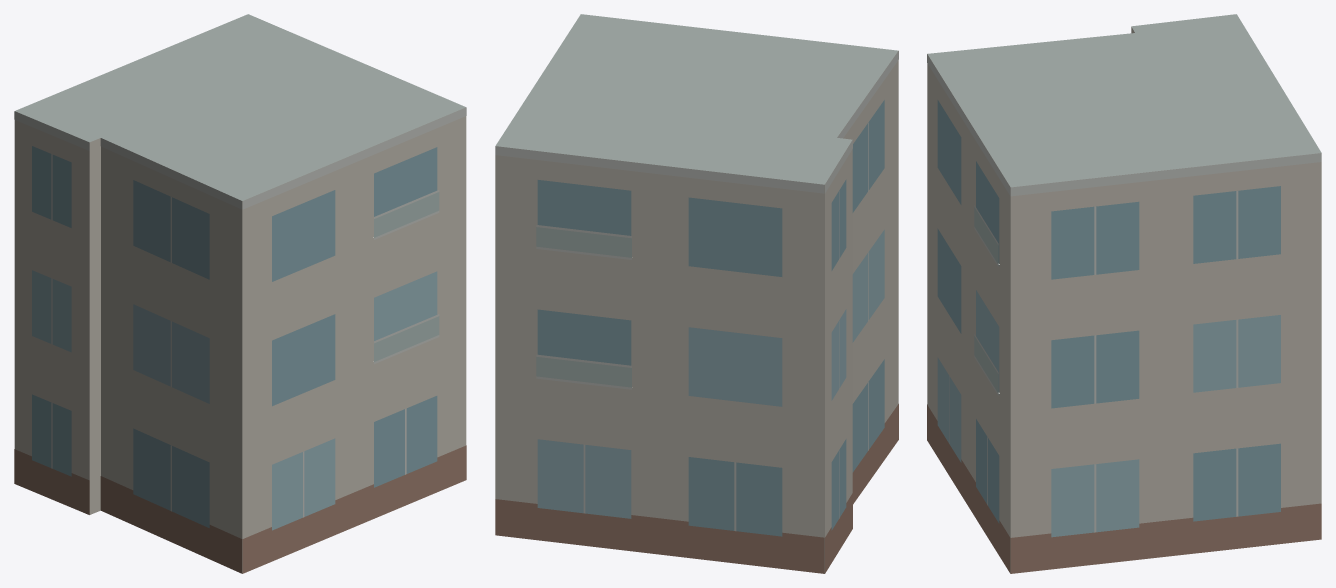
File: survey-upis-32602012.glb
3 views of the same model, side by side, from view 1: azimuth 30°, elevation 25°; view 2: azimuth 150°, elevation 25°; view 3: azimuth 270°, elevation 25° (orthographic). The views are drawn at different scales.
Parts seen in each view (by area): view 1: survey-upis-32602012.tmp; view 2: survey-upis-32602012.tmp; view 3: survey-upis-32602012.tmp.
Part boxes in pixels (x1,y1,x2,y2): survey-upis-32602012.tmp: (14, 14, 466, 573); survey-upis-32602012.tmp: (495, 14, 898, 573); survey-upis-32602012.tmp: (927, 14, 1321, 573).
Size of the model in its own units: 10.12 by 10.5 by 9.73.
